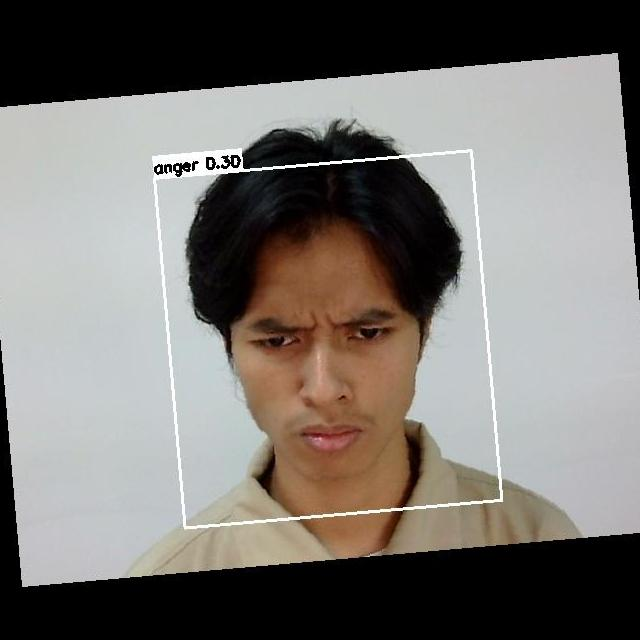Fear: (215, 274, 427, 460)
